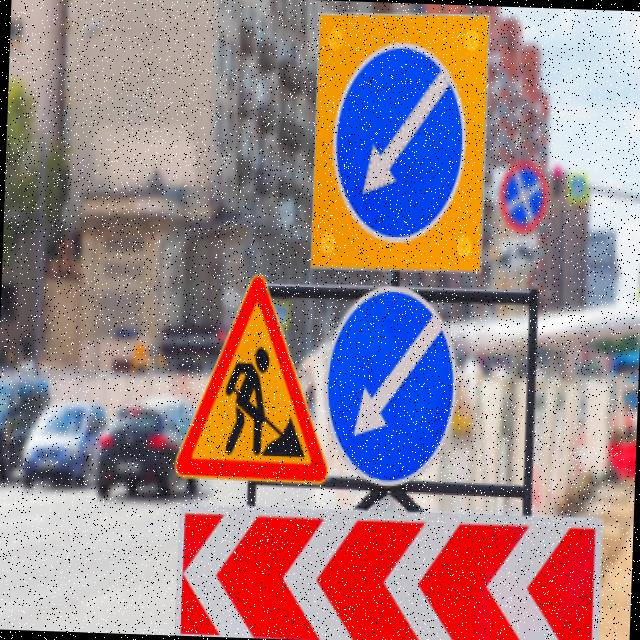road_work: (170, 274, 336, 492)
